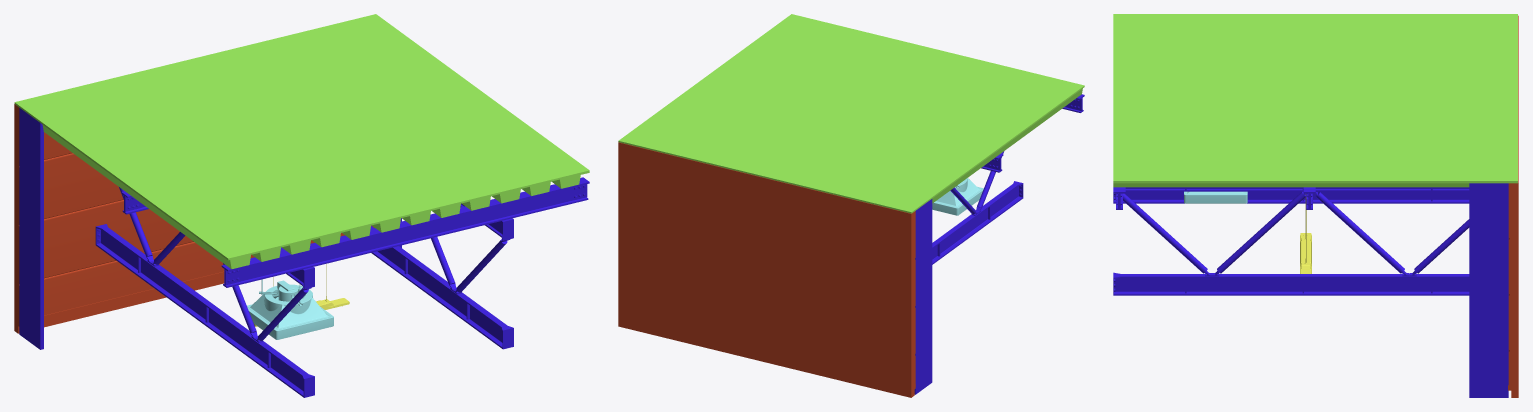
File: Roof_A.glb
The picture shows the model from 3 angles, left to right: view 1: azimuth 30°, elevation 25°; view 2: azimuth 150°, elevation 25°; view 3: azimuth 270°, elevation 25°; orthographic projection. The views are drawn at different scales.
Parts seen in each view (by area): view 1: Roof_A; view 2: Roof_A; view 3: Roof_A.
Part boxes in pixels (box(x1,y1,x2,y2)): Roof_A: box(14, 14, 589, 397); Roof_A: box(618, 14, 1084, 397); Roof_A: box(1113, 14, 1518, 397).
Size of the model in its own units: 10 by 6.05 by 10.25.
